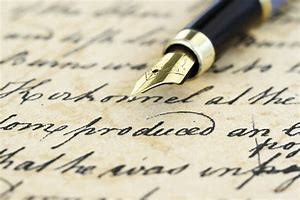pen: (136, 1, 284, 100)
